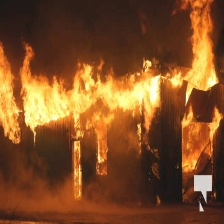fire: (1, 27, 224, 174)
